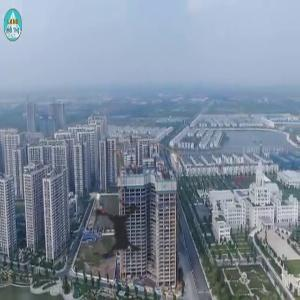drone: (54, 170, 176, 292)
